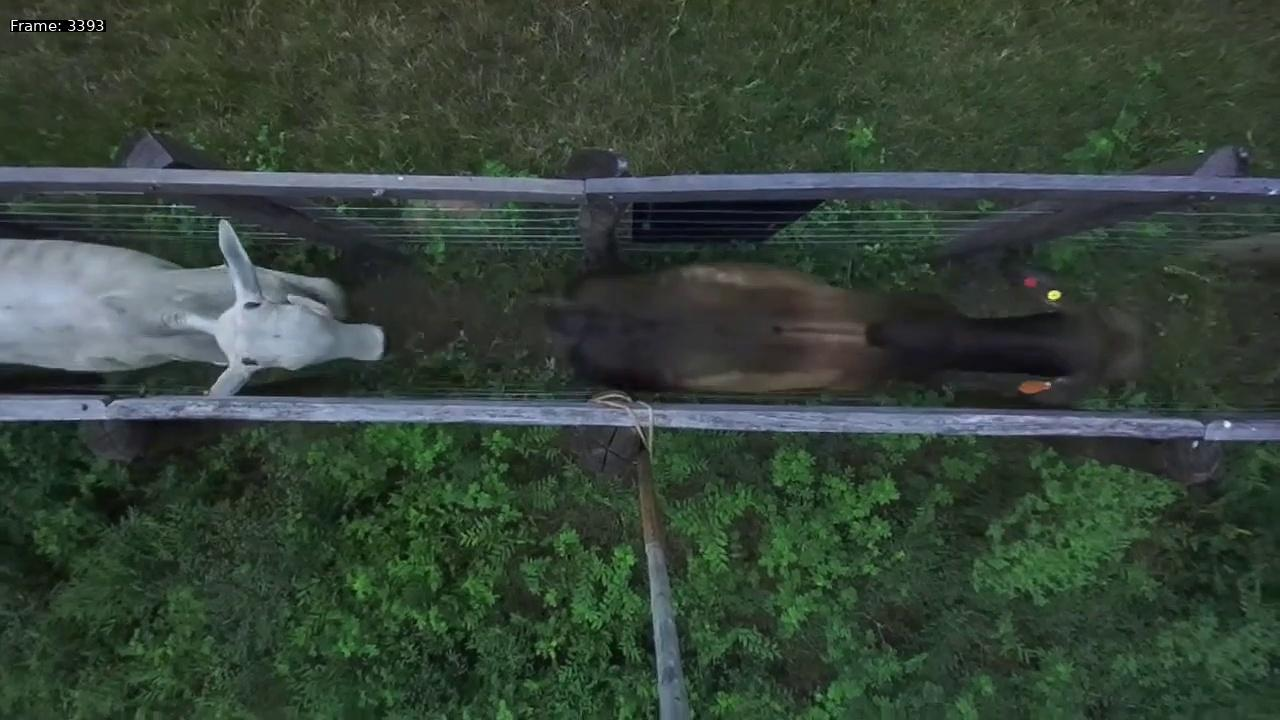cattle: (544, 239, 1161, 420)
